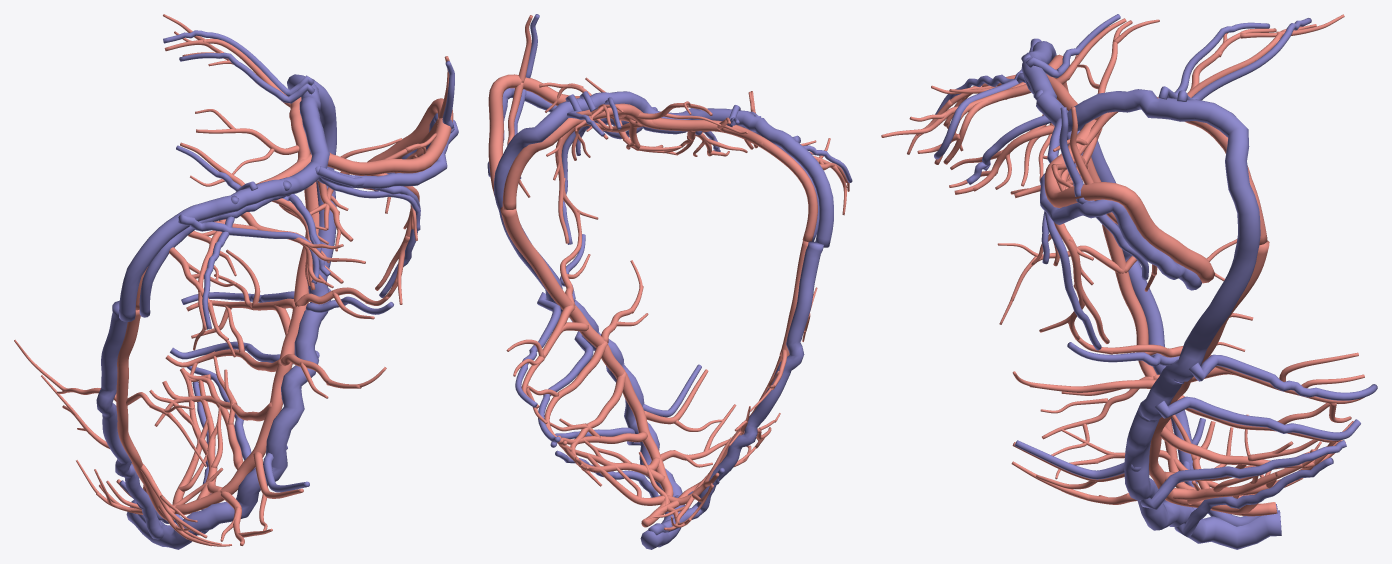
The model's file is vessels_49.glb.
The picture shows the model from 3 angles, left to right: view 1: azimuth 30°, elevation 25°; view 2: azimuth 150°, elevation 25°; view 3: azimuth 270°, elevation 25°; orthographic projection. The views are drawn at different scales.
Visible parts, largest first — view 1: Renderer Node; view 2: Renderer Node; view 3: Renderer Node.
Part boxes in pixels (x1,y1,x2,y2): Renderer Node: (14, 14, 458, 549); Renderer Node: (487, 14, 852, 549); Renderer Node: (881, 14, 1377, 549).
Bounding box in the file's own units: 93.57 × 115 × 91.97.
